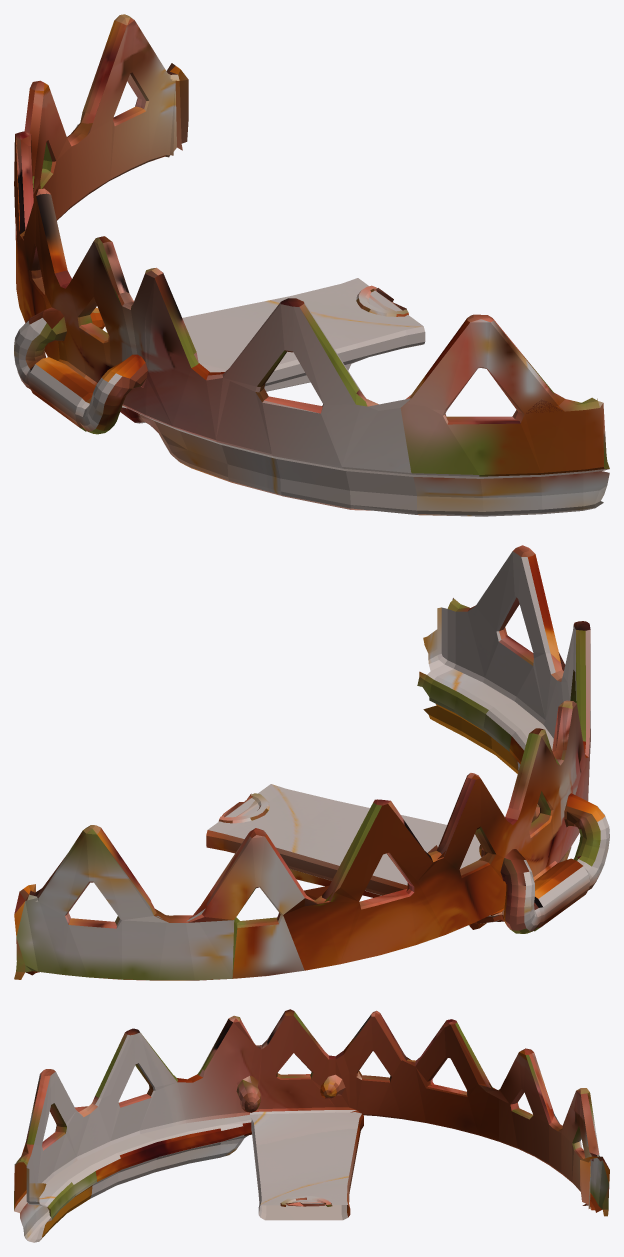
The model's file is XJ_Down_L.fbx.
3 views of the same model, one above another, from view 1: azimuth 30°, elevation 25°; view 2: azimuth 150°, elevation 25°; view 3: azimuth 270°, elevation 25° (orthographic). The views are drawn at different scales.
Parts seen in each view (by area): view 1: Down_L; view 2: Down_L; view 3: Down_L.
Part boxes in pixels (x1,y1,x2,y2): Down_L: [14, 14, 609, 516]; Down_L: [14, 545, 609, 980]; Down_L: [14, 1009, 609, 1242].
Bounding box in the file's own units: 19.84 × 11.43 × 44.39.
